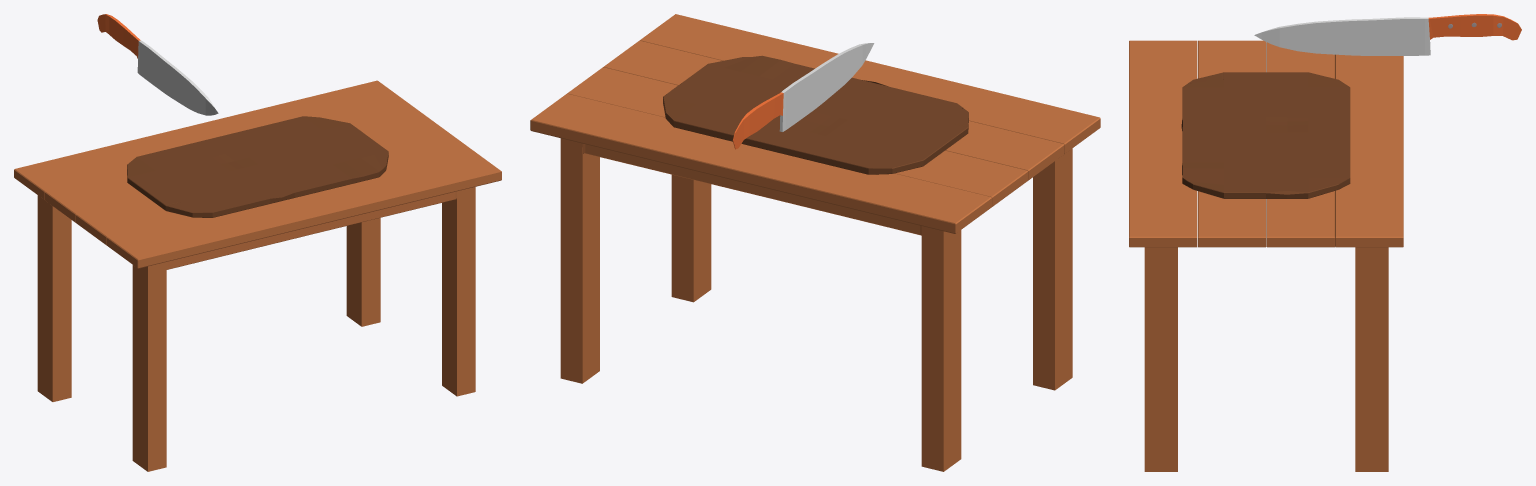
File: knife.fbx
The picture shows the model from 3 angles, left to right: view 1: azimuth 30°, elevation 25°; view 2: azimuth 150°, elevation 25°; view 3: azimuth 270°, elevation 25°; orthographic projection. The views are drawn at different scales.
Parts seen in each view (by area): view 1: Cube.007, Cube.009, Cube.001; view 2: Cube.007, Cube.009, Cube.001; view 3: Cube.007, Cube.009, Cube.001.
Boxes of the visible parts, <box> form: Cube.007: <box>14,80,501,471</box>; Cube.009: <box>127,116,388,217</box>; Cube.001: <box>97,14,218,115</box>; Cube.007: <box>530,14,1100,471</box>; Cube.009: <box>663,55,968,174</box>; Cube.001: <box>732,43,874,149</box>; Cube.007: <box>1129,40,1403,471</box>; Cube.009: <box>1181,72,1350,198</box>; Cube.001: <box>1254,14,1521,55</box>.
Size of the model in its own units: 448 by 366 by 378.
